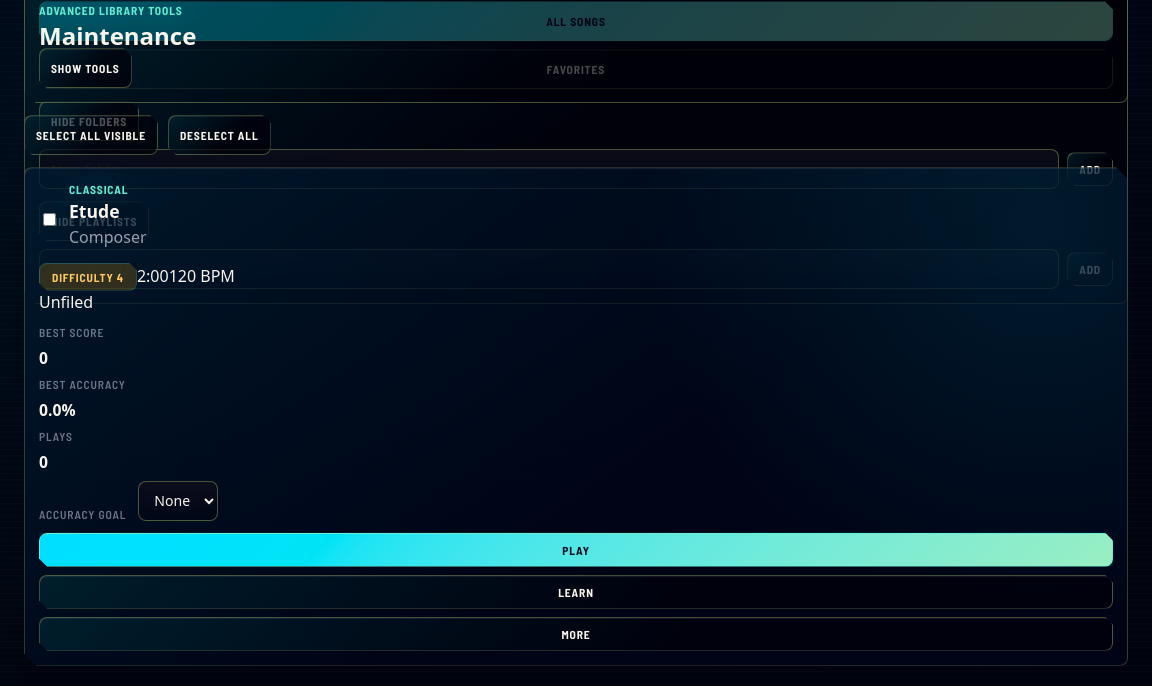
Test: LibraryScreen › deletes a song from the metadata editor
The width and height of the screenshot is (1152, 686).
(page scrolled)
Click the button "More". click: [576, 634]
box: [39, 616, 1113, 650]
(page scrolled)
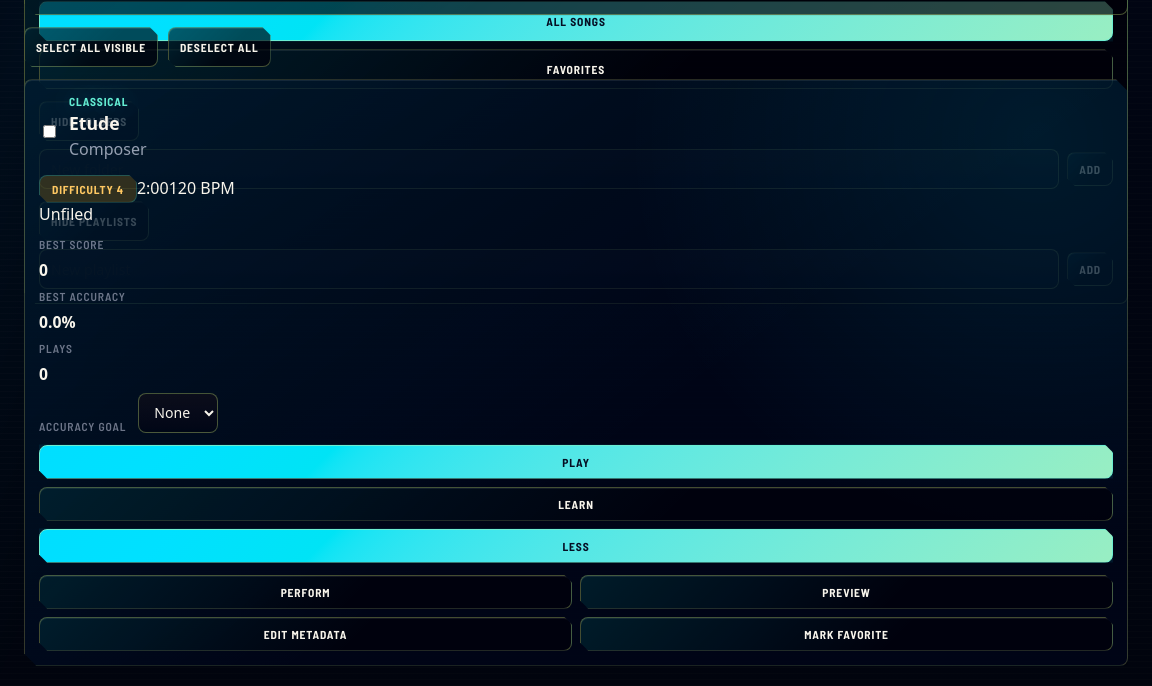
Click the button "Edit Metadata". click: [306, 634]
box: [39, 616, 572, 650]
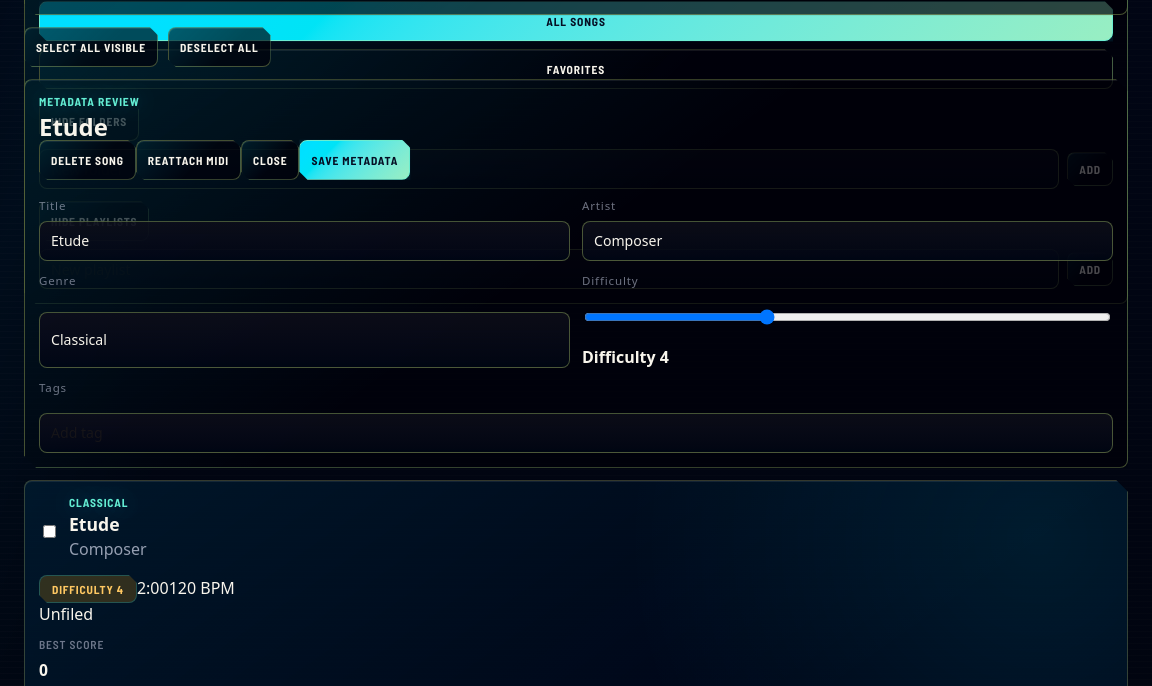
Click the button "Delete Song". click: [87, 160]
box: [39, 140, 136, 180]
(page scrolled)
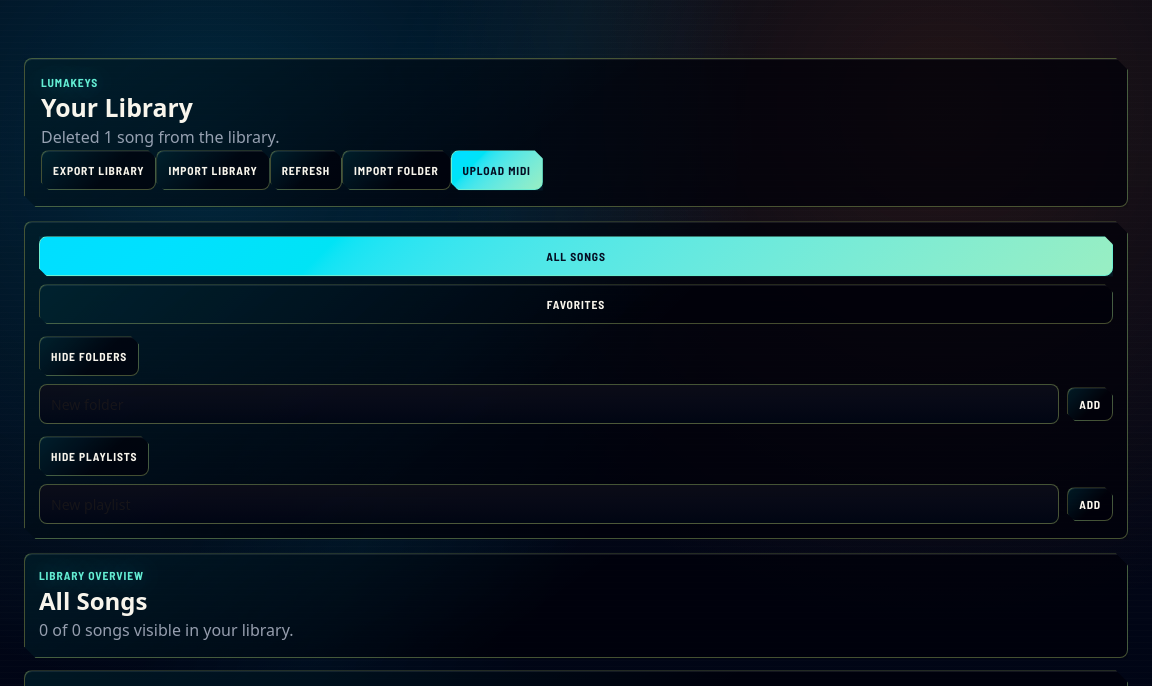
Expected: the text "Metadata Review" is gone
Expected: the text "Deleted 1 song from the library." is shown, [41, 126, 279, 148]
